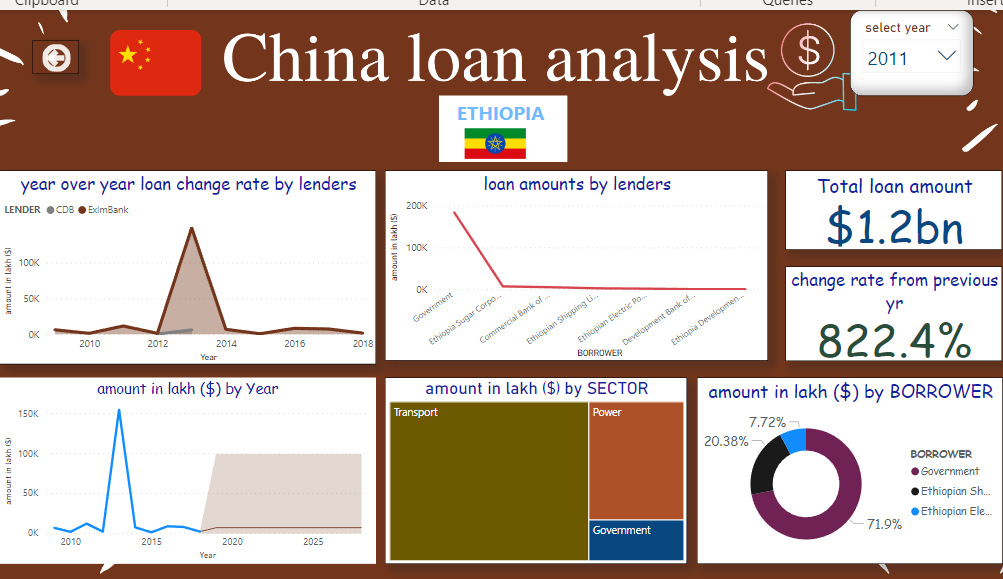

What the dashboard file says about the page in this screenshot:
{"tool":"powerbi","page":{"name":"Ethiopia Loan analysis","canvas":[1280,720],"ordinal":2},"visuals":[{"type":"card","title":"Total loan amount","fields":{"Values":["Calculated_fields.total_loan_"]},"box":[1006.1,203.4,273.4,100.1],"z":0},{"type":"treemap","fields":{"Group":["china_loan_transformed.SECTOR"],"Values":["Sum(china_loan_transformed.amount in lakh ($))"]},"box":[500.7,464.1,381.5,235.2],"z":1000},{"type":"areaChart","title":"year over year loan change rate by lenders","fields":{"Y":["Sum(china_loan_transformed.amount in lakh ($))"],"Category":["china_loan_transformed.YEAR.Variation.Date Hierarchy.Year"],"Series":["china_loan_transformed.LENDER"]},"box":[12.7,203.4,475.2,244.8],"z":2000},{"type":"donutChart","fields":{"Category":["china_loan_transformed.BORROWER"],"Y":["Sum(china_loan_transformed.amount in lakh ($))"]},"box":[893.2,464.1,386.2,235.2],"z":3000},{"type":"textbox","box":[567.4,108.1,162.1,84.2],"z":4000},{"type":"lineChart","title":"loan amounts by lenders","fields":{"Category":["china_loan_transformed.BORROWER"],"Y":["Sum(china_loan_transformed.amount in lakh ($))"]},"box":[500.7,203.4,483.2,240],"z":5000},{"type":"card","title":"change rate from previous yr","fields":{"Values":["Calculated_fields.YOY loan change%"]},"box":[1006.1,324.2,273.4,119.2],"z":6000},{"type":"image","box":[549.9,143,179.6,49.3],"z":7000},{"type":"lineChart","fields":{"Category":["china_loan_transformed.YEAR.Variation.Date Hierarchy.Year"],"Y":["Sum(china_loan_transformed.amount in lakh ($))"]},"box":[12.7,464.1,475.2,235.2],"z":8000},{"type":"actionButton","box":[55.8,38.6,58.7,42.9],"z":9000},{"type":"slicer","fields":{"Values":["china_loan_transformed.YEAR.Variation.Date Hierarchy.Year"]},"box":[1086.4,0,156,108.8],"z":10000}]}

Visuals, with their boxes in screenshot pixels (x1, y1, x2, y2):
"Total loan amount" card: {"left": 785, "top": 168, "right": 1002, "bottom": 248}
treemap - china_loan_transformed.SECTOR x Sum(china_loan_transformed.amount in lakh ($)): {"left": 380, "top": 377, "right": 686, "bottom": 565}
"year over year loan change rate by lenders" areaChart: {"left": 0, "top": 168, "right": 370, "bottom": 364}
donutChart - china_loan_transformed.BORROWER x Sum(china_loan_transformed.amount in lakh ($)): {"left": 695, "top": 377, "right": 1002, "bottom": 565}
textbox: {"left": 434, "top": 92, "right": 564, "bottom": 159}
"loan amounts by lenders" lineChart: {"left": 380, "top": 168, "right": 767, "bottom": 360}
"change rate from previous yr" card: {"left": 785, "top": 265, "right": 1002, "bottom": 360}
image: {"left": 420, "top": 120, "right": 564, "bottom": 159}
lineChart - china_loan_transformed.YEAR.Variation.Date Hierarchy.Year x Sum(china_loan_transformed.amount in lakh ($)): {"left": 0, "top": 377, "right": 370, "bottom": 565}
actionButton: {"left": 24, "top": 36, "right": 71, "bottom": 71}
slicer - china_loan_transformed.YEAR.Variation.Date Hierarchy.Year: {"left": 849, "top": 5, "right": 974, "bottom": 92}
